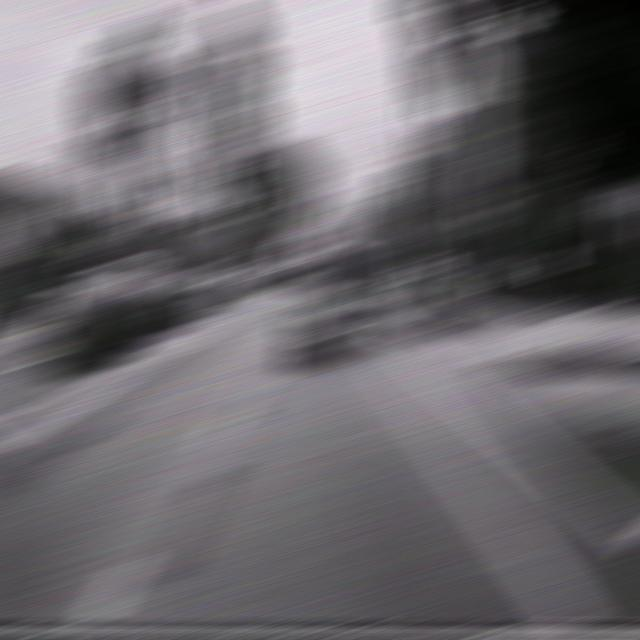speedLimit35: (395, 228, 424, 246)
